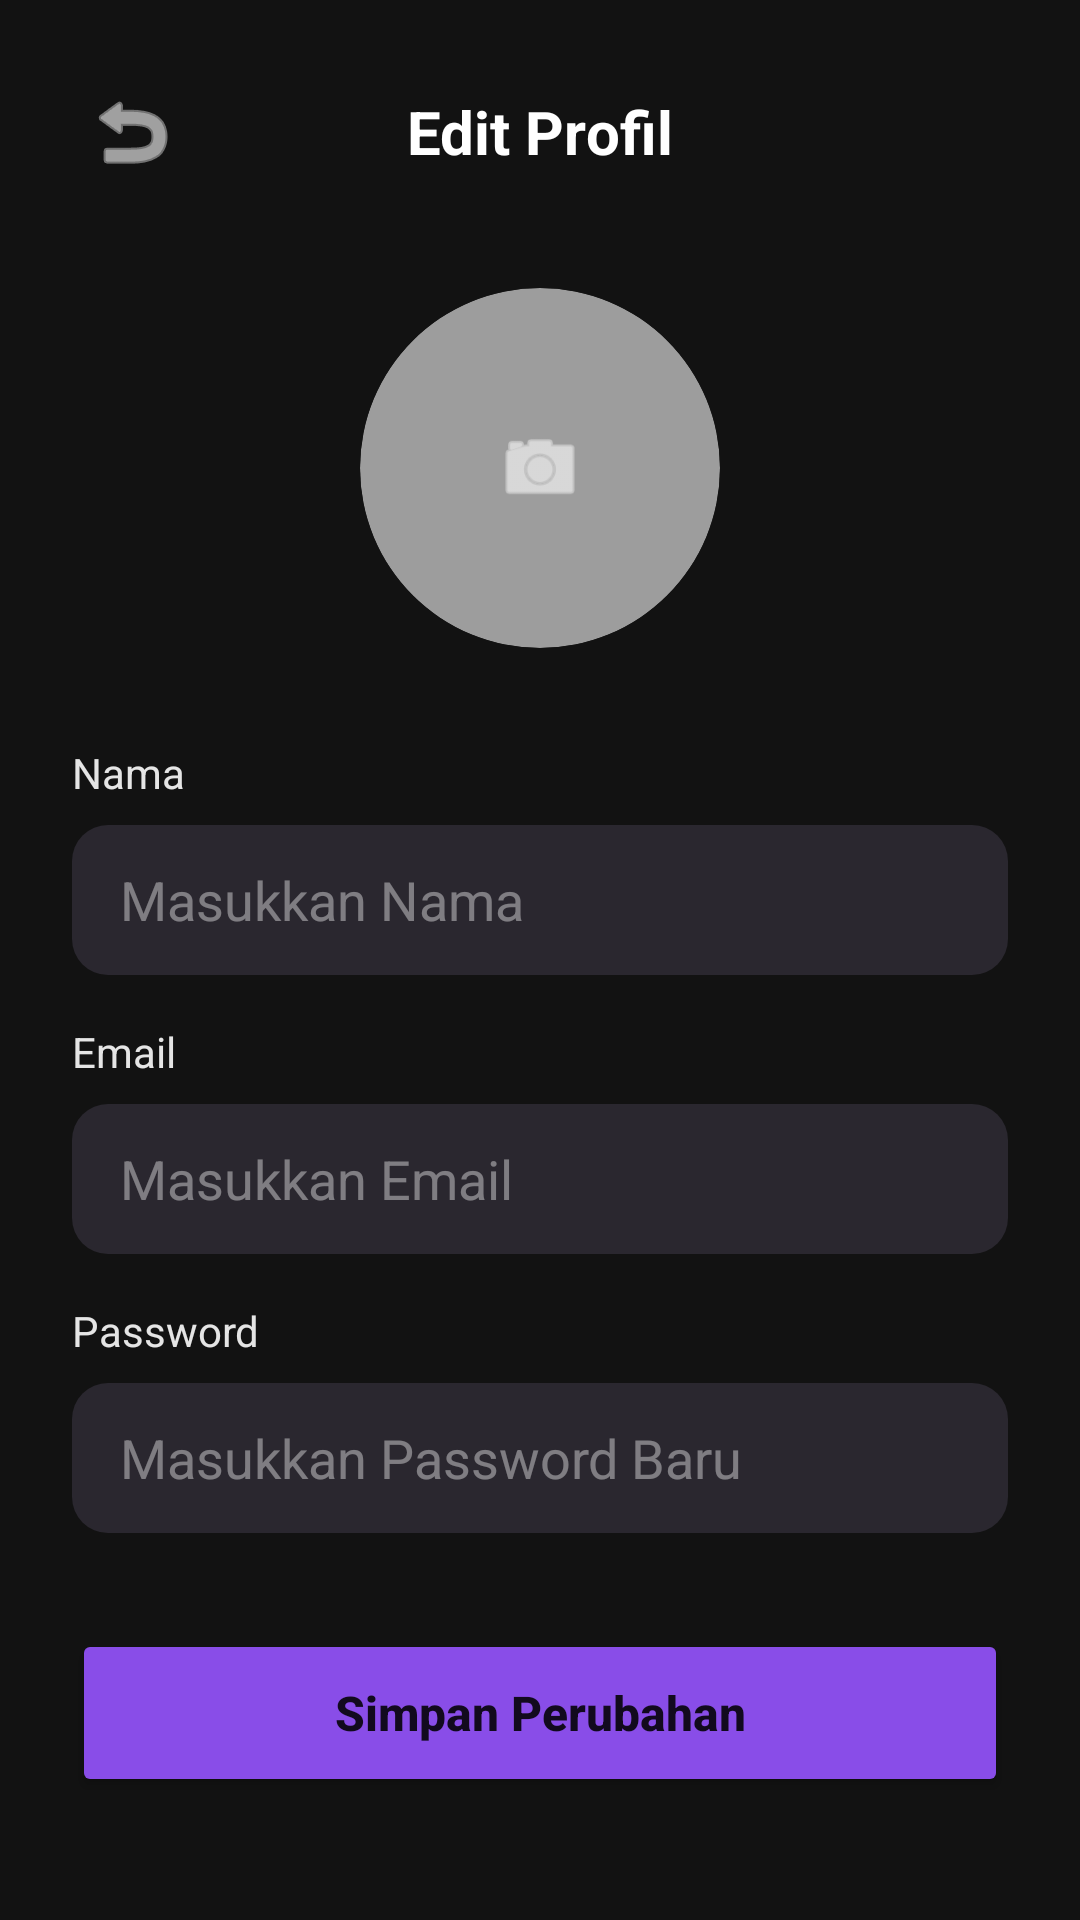

Locate icon controls on the screen. Image size 1080px x 1920px, boxes as [x1, y1, x2, y2].
camera: [506, 439, 574, 494]
revert: [99, 101, 168, 164]
